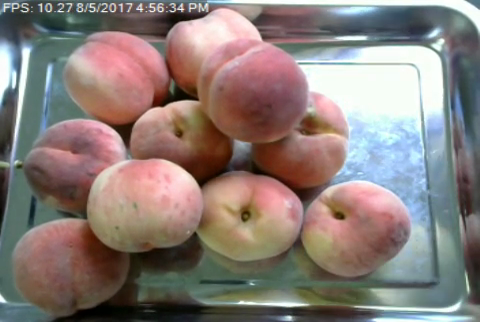Peach: (12, 216, 128, 316), (197, 37, 307, 142), (299, 181, 411, 276), (90, 156, 200, 251), (63, 28, 168, 127), (194, 171, 305, 260), (250, 89, 350, 185), (24, 118, 124, 213), (165, 8, 262, 100), (130, 99, 234, 175)
